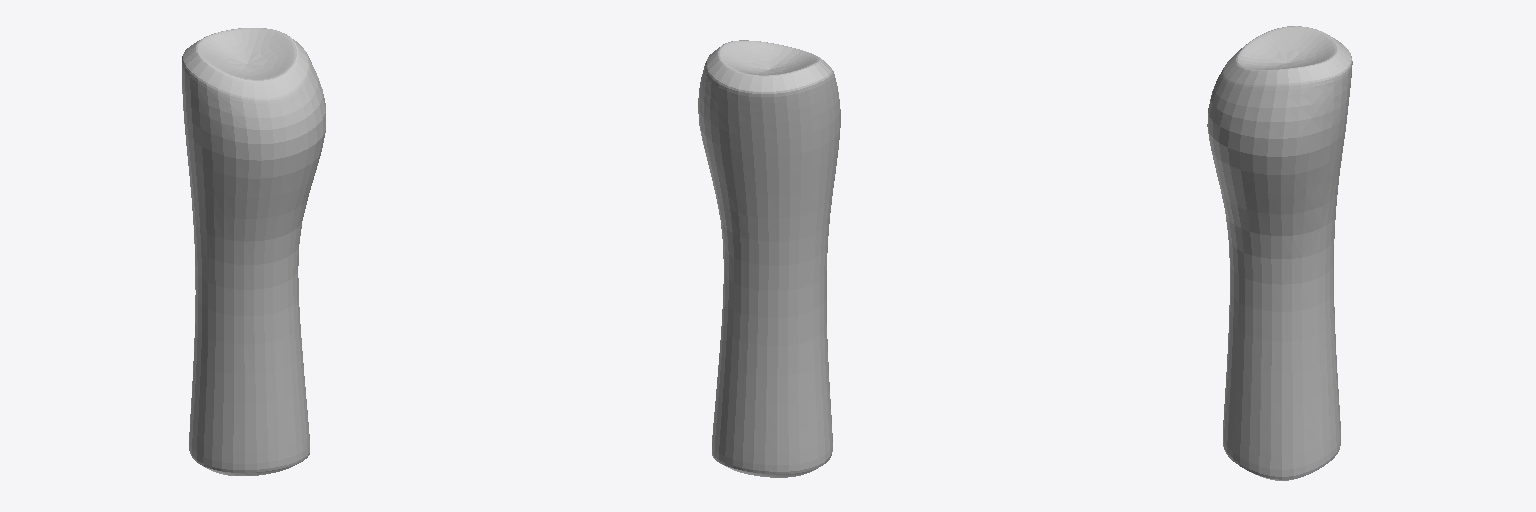
File: ArmR.obj
3 views of the same model, side by side, from view 1: azimuth 30°, elevation 25°; view 2: azimuth 150°, elevation 25°; view 3: azimuth 270°, elevation 25° (orthographic).
Visible parts, largest first — view 1: GEO-Body.006_Body.006; view 2: GEO-Body.006_Body.006; view 3: GEO-Body.006_Body.006.
Boxes of the visible parts, <box> form: GEO-Body.006_Body.006: <box>182,28,325,475</box>; GEO-Body.006_Body.006: <box>698,40,840,477</box>; GEO-Body.006_Body.006: <box>1207,26,1352,480</box>.
Size of the model in its own units: 0.0756 by 0.2391 by 0.0761.